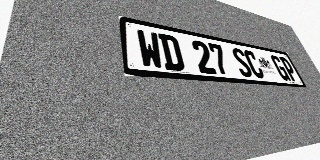2: (190, 39, 217, 74)
7: (206, 42, 232, 76)
C: (242, 49, 266, 79)
D: (158, 33, 186, 72)
G: (269, 55, 291, 81)
P: (278, 56, 300, 82)
S: (230, 47, 254, 78)
W: (136, 29, 165, 70)
